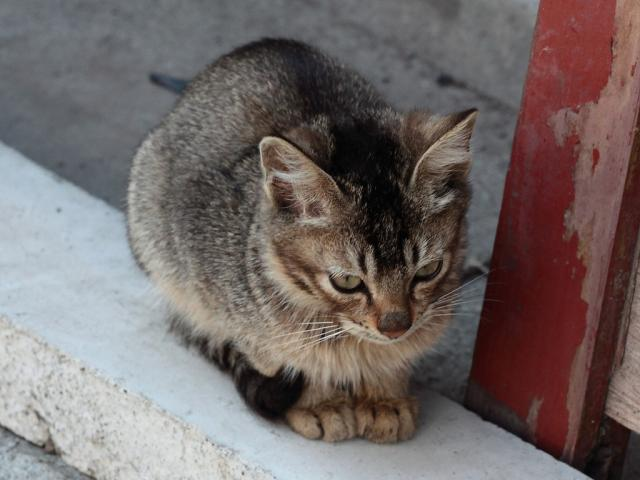Cat: (118, 30, 508, 444)
